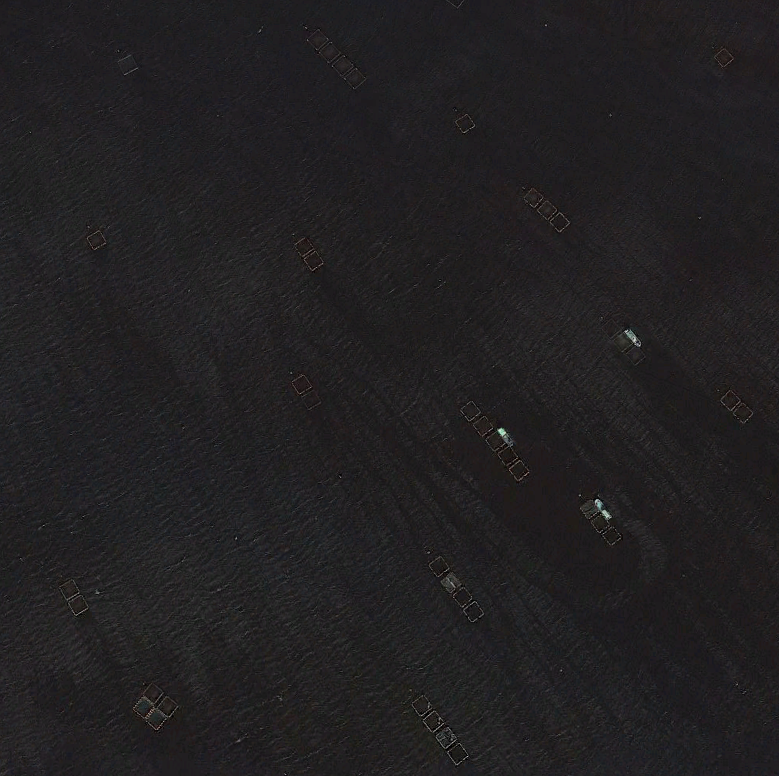ship: (592, 483, 616, 524), (618, 322, 648, 352), (491, 420, 521, 448)
square: (454, 102, 494, 144), (75, 228, 119, 261), (111, 48, 145, 83), (130, 680, 170, 707), (410, 689, 442, 722), (712, 44, 743, 77), (122, 695, 157, 724), (55, 575, 86, 607), (303, 23, 333, 56), (716, 383, 746, 416), (424, 551, 455, 582), (435, 567, 467, 597), (522, 184, 551, 216), (460, 600, 493, 627), (458, 395, 486, 425), (598, 314, 626, 344), (480, 421, 507, 452), (151, 692, 182, 719), (441, 739, 472, 766), (301, 383, 327, 415), (449, 585, 478, 613), (428, 724, 459, 750), (601, 523, 628, 552), (288, 369, 314, 398), (142, 707, 171, 733), (421, 709, 448, 736), (67, 592, 93, 620), (317, 39, 344, 65), (578, 496, 604, 523), (471, 409, 496, 437), (495, 439, 520, 466), (509, 453, 531, 483), (344, 65, 370, 90), (589, 509, 614, 535), (615, 331, 641, 356), (625, 344, 650, 370), (330, 52, 355, 77), (293, 233, 316, 260), (537, 202, 564, 225), (549, 210, 573, 234), (304, 247, 326, 273), (736, 403, 758, 426)
